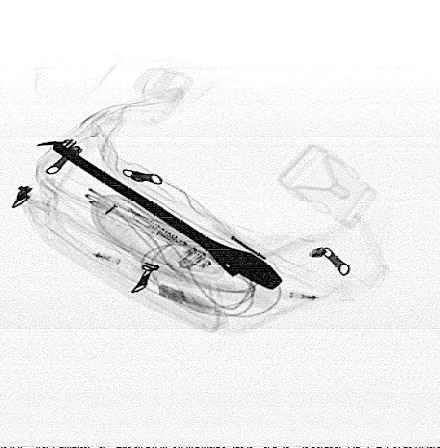Wrench: (56, 141, 282, 293)
